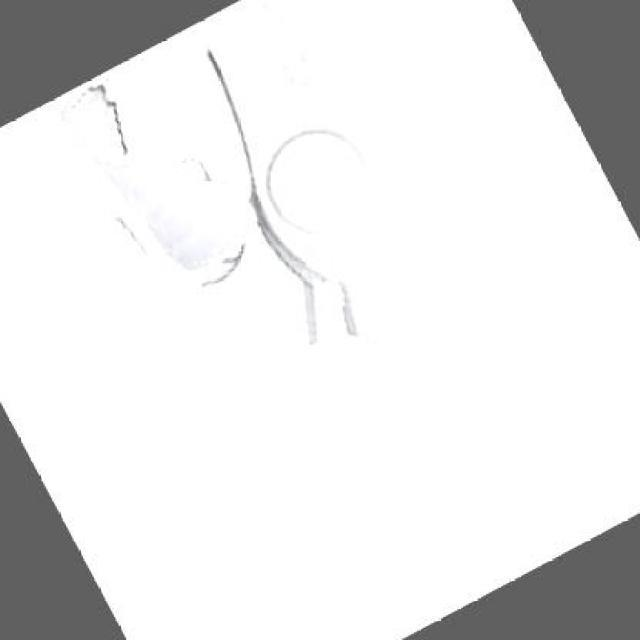pliers: (13, 0, 575, 612)
